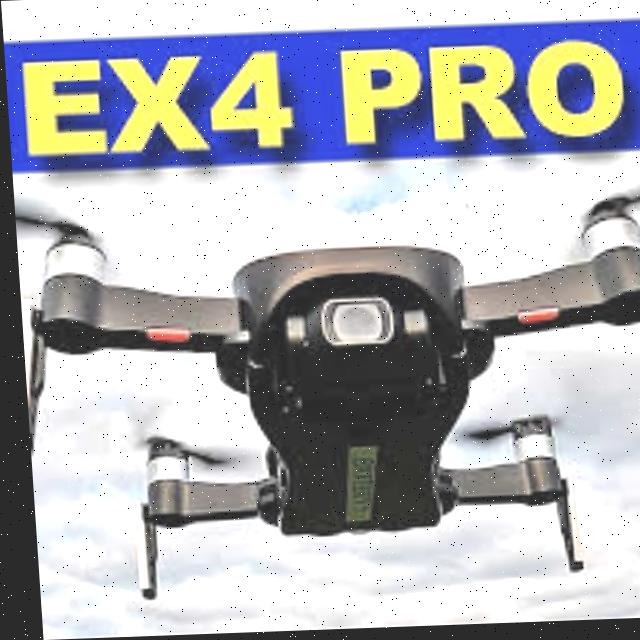drone: (9, 146, 640, 596)
